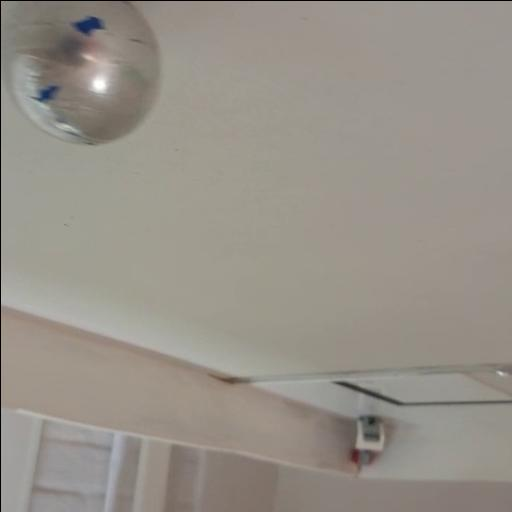alive: (0, 6, 165, 145)
